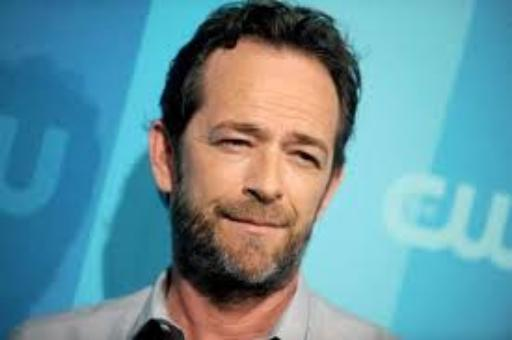left_eye: (288, 152, 323, 170)
left_lip_corner: (276, 221, 297, 234)
right_eye: (213, 138, 258, 153)
right_lip_corner: (222, 214, 241, 228)
